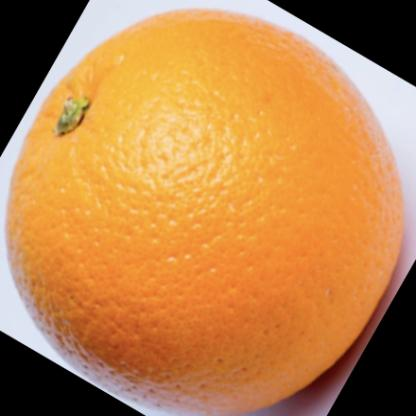fresh: (7, 11, 400, 379)
